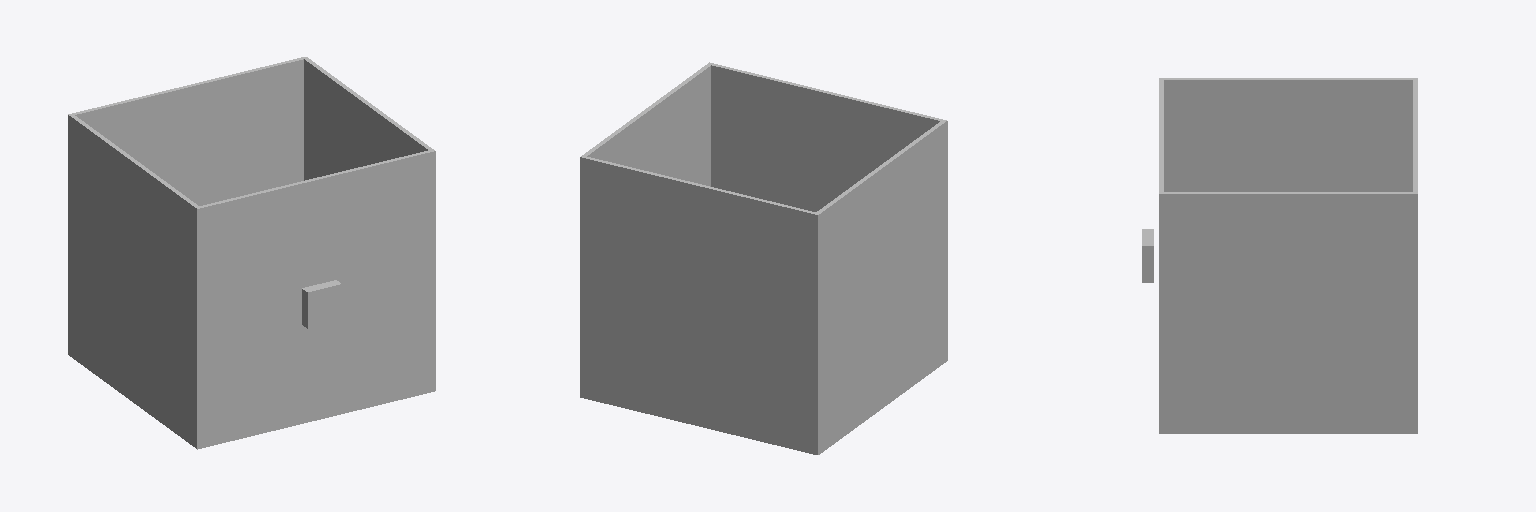
Rendered from Drawer Draw.obj.
3 views of the same model, side by side, from view 1: azimuth 30°, elevation 25°; view 2: azimuth 150°, elevation 25°; view 3: azimuth 270°, elevation 25° (orthographic).
Parts seen in each view (by area): view 1: polySurface6; view 2: polySurface6; view 3: polySurface6.
Boxes of the visible parts, x1,y1,x2,y2 form: polySurface6: [68, 57, 435, 449]; polySurface6: [580, 62, 947, 454]; polySurface6: [1142, 78, 1417, 433].
Size of the model in its own units: 2.43 by 2.35 by 2.44.